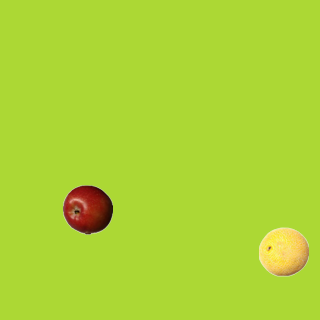Apple Braeburn: (62, 184, 112, 234)
Cantaloupe 1: (258, 226, 308, 276)
